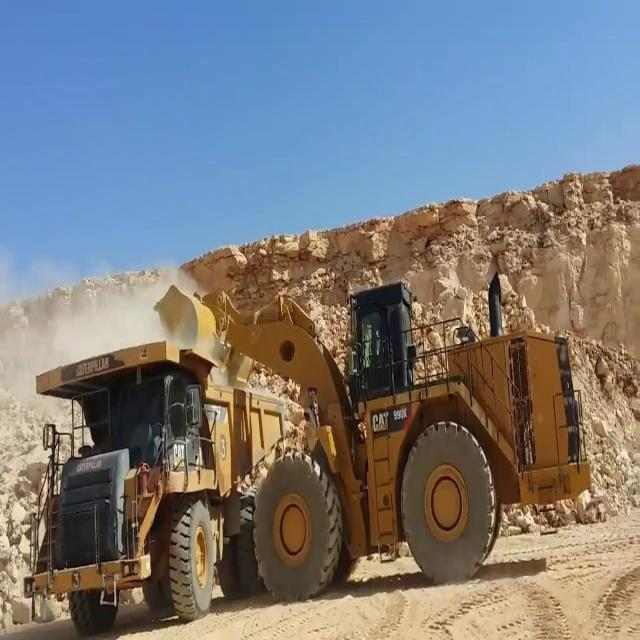Dump Truck: (16, 323, 294, 639)
Loader: (150, 268, 594, 612)
